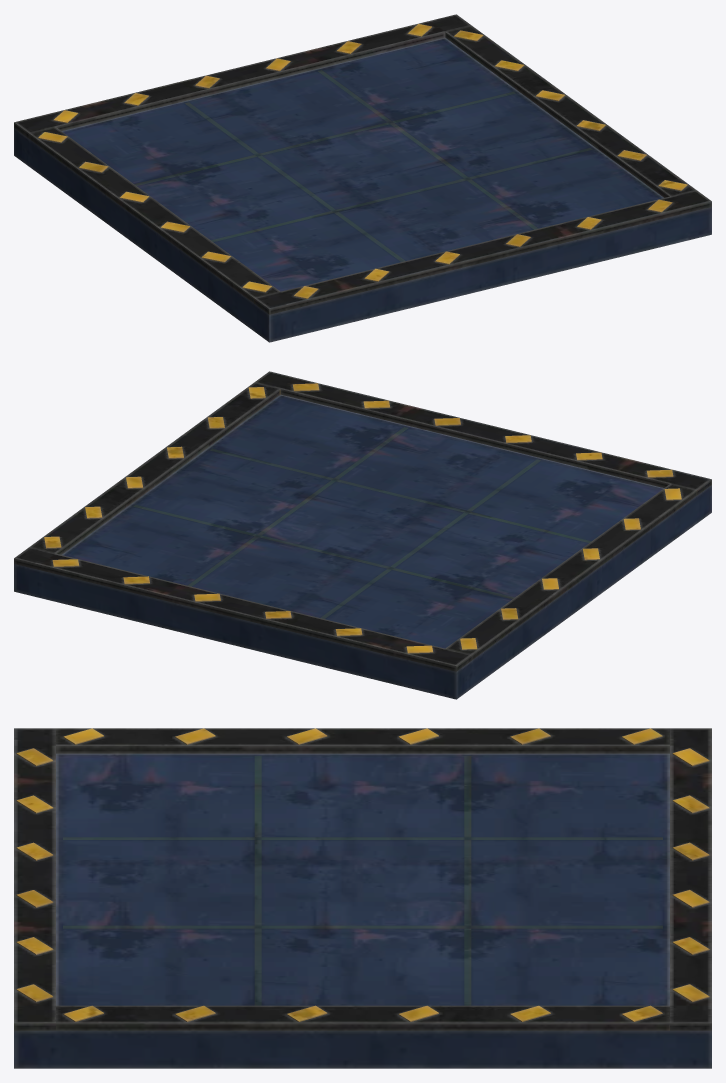
Rendered from hull_composite_platform_space.glb.
3 renders of one model, top to bottom at view 1: azimuth 30°, elevation 25°; view 2: azimuth 150°, elevation 25°; view 3: azimuth 270°, elevation 25°, orthographic. The views are drawn at different scales.
Parts seen in each view (by area): view 1: te_hull_composite_platform_space; view 2: te_hull_composite_platform_space; view 3: te_hull_composite_platform_space.
Part boxes in pixels (x1,y1,x2,y2): te_hull_composite_platform_space: (14,14,711,342); te_hull_composite_platform_space: (14,371,711,699); te_hull_composite_platform_space: (14,728,711,1068).
Bounding box in the file's own units: 1 × 0.0735 × 1.
1 material, 1 textured.
